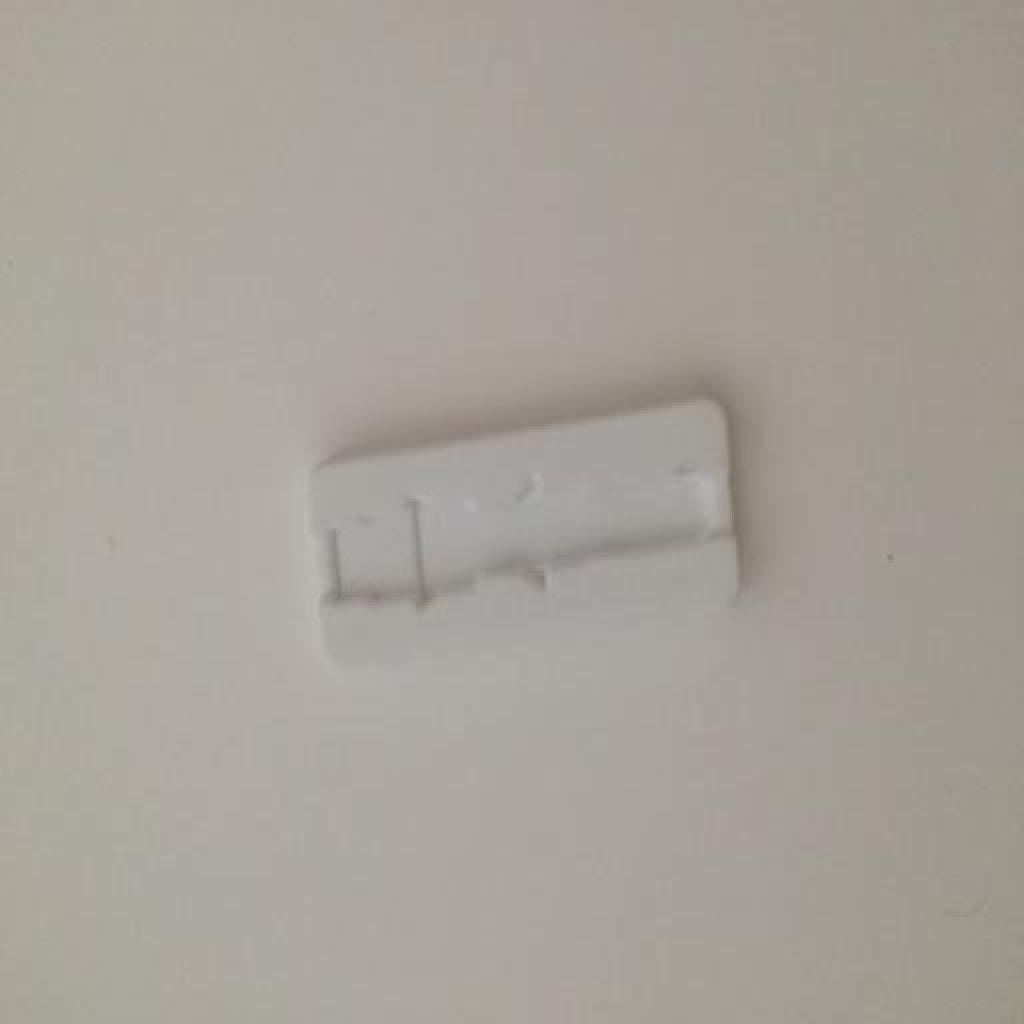organico: (272, 381, 762, 689)
